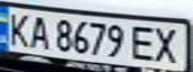6: (69, 18, 90, 55)
7: (87, 20, 109, 56)
8: (51, 16, 75, 53)
9: (103, 20, 130, 60)
A: (27, 12, 51, 50)
E: (127, 23, 160, 62)
K: (3, 10, 33, 47)
X: (151, 25, 187, 65)
